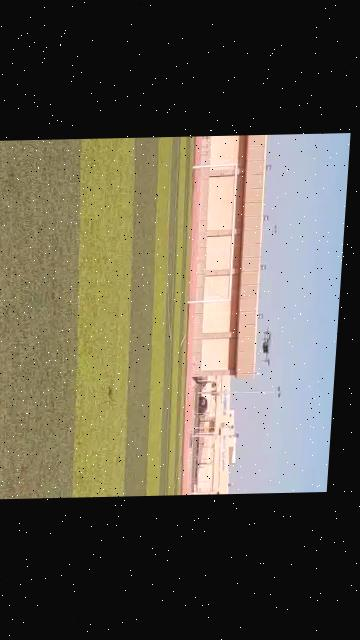drone: (255, 325, 284, 373)
